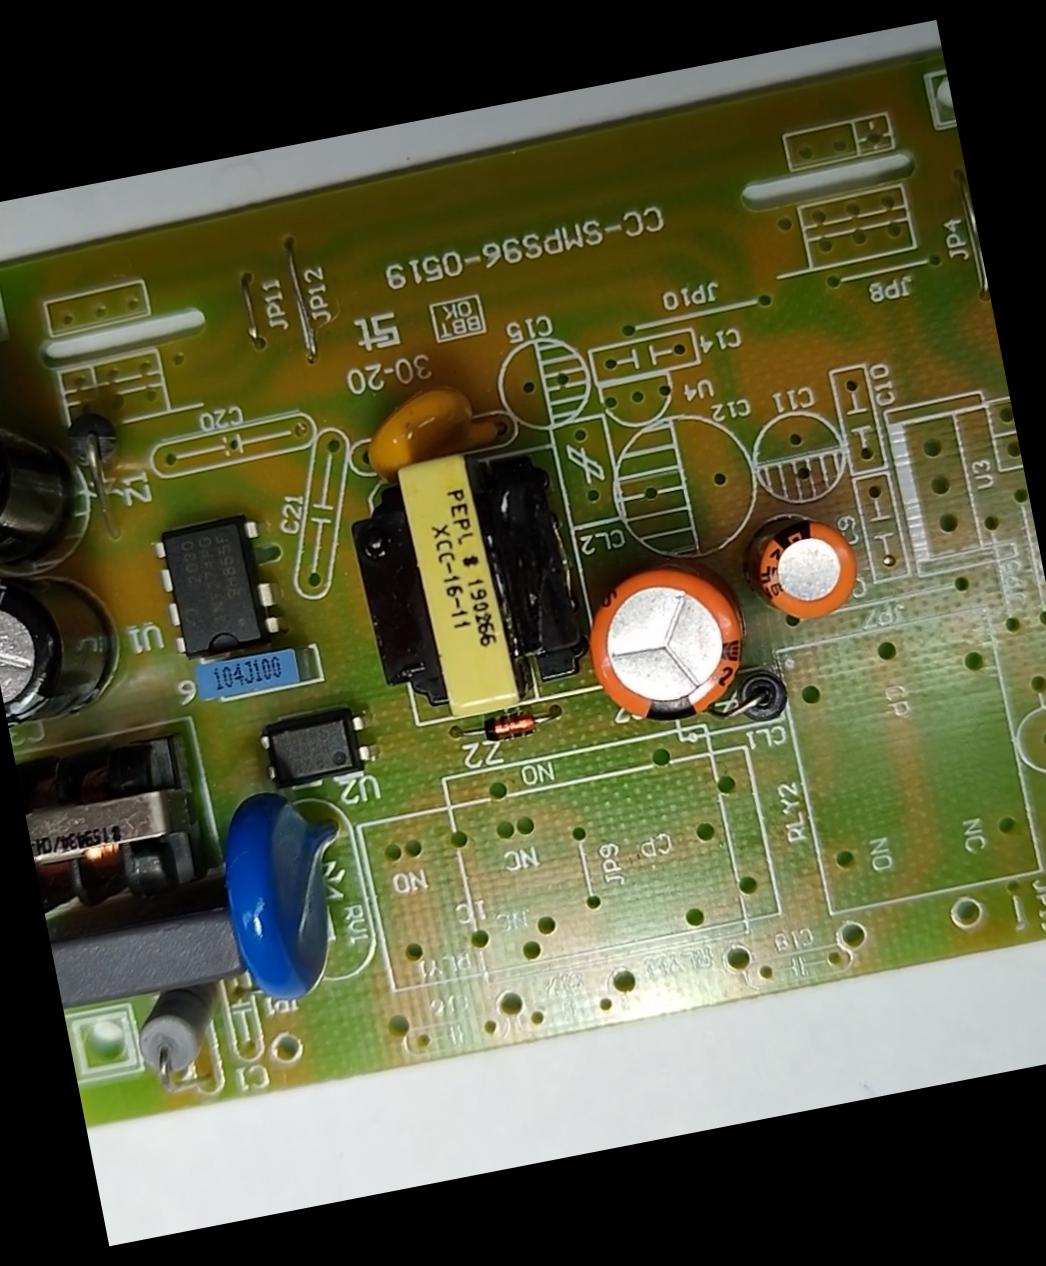Cap1: (574, 557, 752, 732)
Cap2: (747, 508, 865, 631)
Cap3: (0, 551, 136, 731)
Cap4: (0, 371, 96, 581)
MOSFET: (152, 510, 285, 662)
Mov: (209, 779, 375, 1010)
Resistor: (124, 979, 234, 1085)
Transformer: (342, 433, 595, 729), (14, 720, 222, 928)
